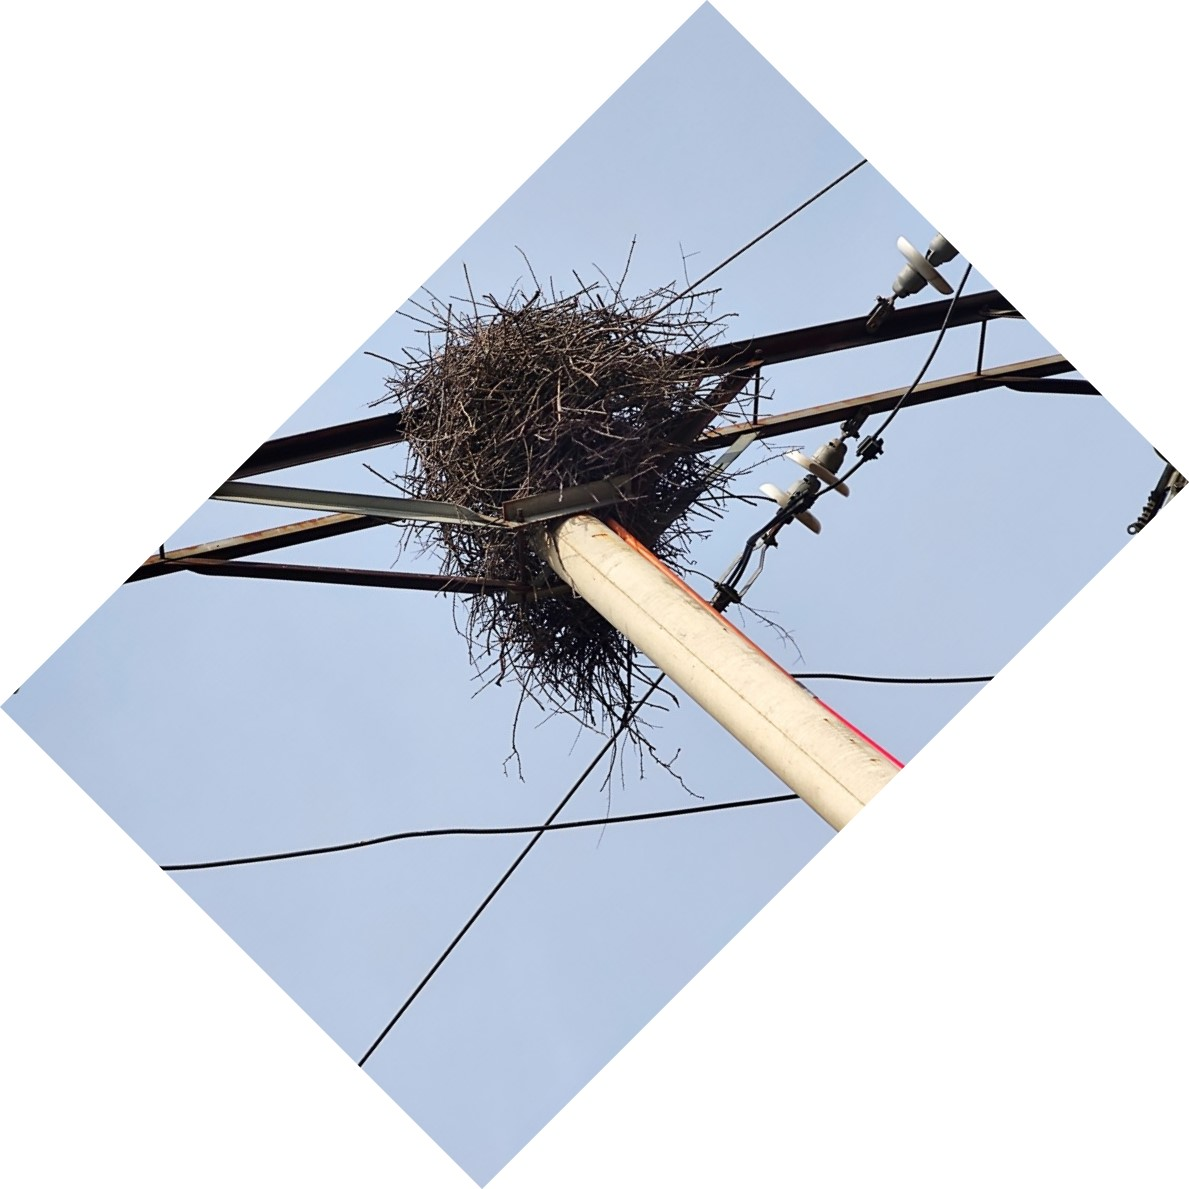niaowo: (370, 282, 740, 681)
